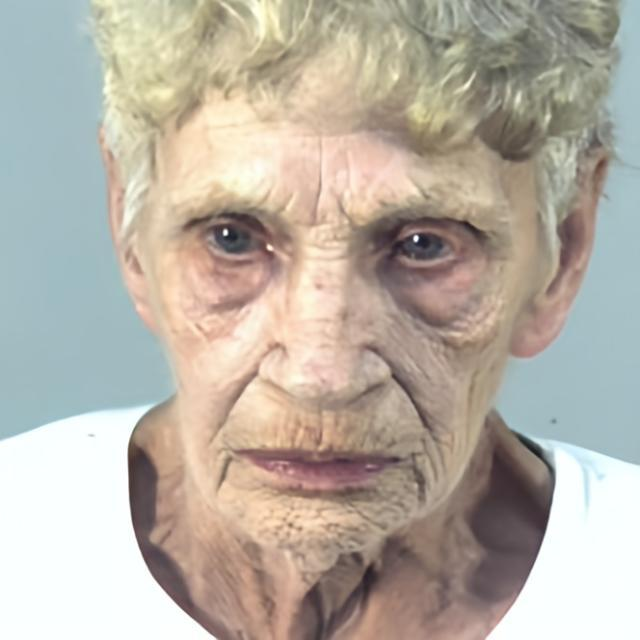sad: (141, 60, 524, 558)
